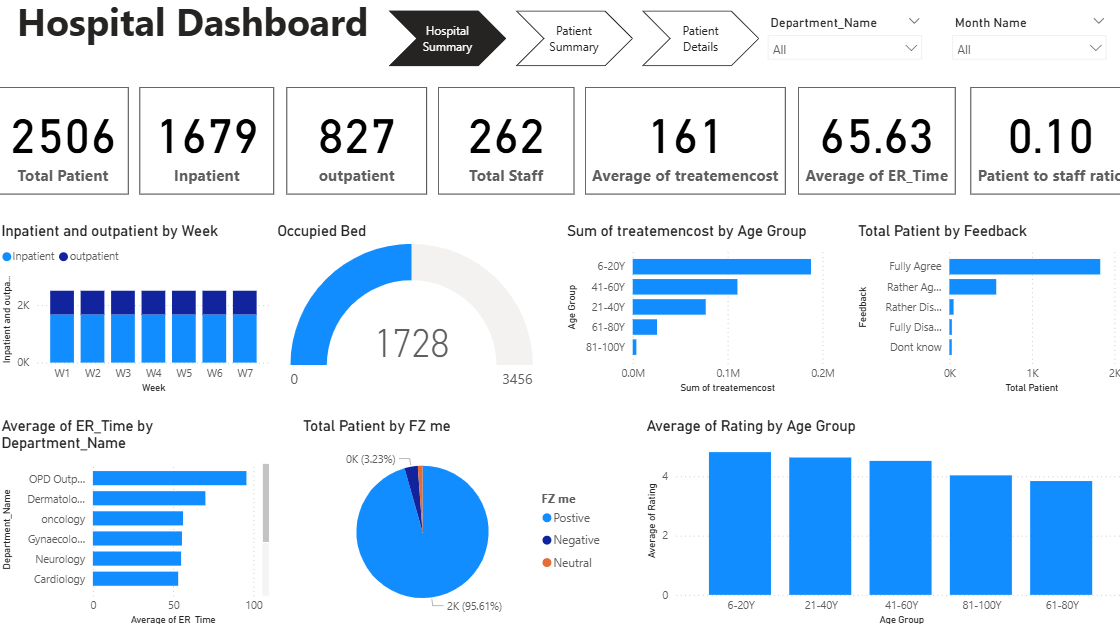

The page's visual inventory and layout, read from the dashboard file:
{"tool":"powerbi","page":{"name":"Hospital Summary","canvas":[1280,720],"ordinal":0},"visuals":[{"type":"card","fields":{"Values":["Measure.Total Patient"]},"box":[0,108.5,149,121.4],"z":0},{"type":"card","fields":{"Values":["Measure.Inpatient"]},"box":[160.3,108.5,152.2,121.4],"z":1000},{"type":"card","fields":{"Values":["Measure.outpatient"]},"box":[327.1,108.5,158.7,121.4],"z":2000},{"type":"card","fields":{"Values":["Measure.Total Staff"]},"box":[498.7,108.5,153.8,121.4],"z":3000},{"type":"card","fields":{"Values":["Avg(Detail data dataset.treatemencost)"]},"box":[663.9,108.5,226.7,121.4],"z":4000},{"type":"card","fields":{"Values":["Avg(Detail data dataset.ER_Time)"]},"box":[905.1,108.5,178.1,121.4],"z":5000},{"type":"card","fields":{"Values":["Measure.Patient to staff ratio"]},"box":[1099.5,108.5,181.4,121.4],"z":6000},{"type":"slicer","fields":{"Values":["Department.Department_Name"]},"box":[861.4,22.7,194.3,63.1],"z":7000},{"type":"slicer","fields":{"Values":["Date.Month Name"]},"box":[1070.3,22.7,194.3,63.1],"z":8000},{"type":"textbox","box":[0,0,442,68],"z":9000},{"type":"pageNavigator","box":[442,22.7,419.4,63.1],"z":10000},{"type":"columnChart","fields":{"Y":["Measure.Inpatient","Measure.outpatient"],"Category":["Date.Week"]},"box":[0,260.7,312.5,197.5],"z":11000},{"type":"gauge","fields":{"Y":["Measure.Occupied Bed"]},"box":[312.5,260.7,312.5,197.5],"z":12000},{"type":"barChart","fields":{"Y":["Sum(Detail data dataset.treatemencost)"],"Category":["Detail data dataset.Age Group"]},"box":[639.6,260.7,312.5,197.5],"z":13000},{"type":"barChart","fields":{"Category":["Detail data dataset.Feedback"],"Y":["Measure.Total Patient"]},"box":[968.3,260.7,312.5,197.5],"z":14000},{"type":"barChart","fields":{"Y":["Avg(Detail data dataset.ER_Time)"],"Category":["Department.Department_Name"]},"box":[0,480.9,312.5,239.6],"z":15000},{"type":"pieChart","fields":{"Y":["Measure.Total Patient"],"Category":["Detail data dataset.FZ me"]},"box":[340,480.9,354.6,239.6],"z":16000},{"type":"columnChart","fields":{"Y":["Avg(Detail data dataset.Rating)"],"Category":["Detail data dataset.Age Group"]},"box":[728.7,480.9,552.2,239.6],"z":17000}]}

Visuals, with their boxes in screenshot pixels (x1, y1, x2, y2), scaled from the page's 1280x720 canvas onto the 1120x624 screenshot:
card - Measure.Total Patient: BBox(0, 94, 130, 199)
card - Measure.Inpatient: BBox(140, 94, 273, 199)
card - Measure.outpatient: BBox(286, 94, 425, 199)
card - Measure.Total Staff: BBox(436, 94, 571, 199)
card - Avg(Detail data dataset.treatemencost): BBox(581, 94, 779, 199)
card - Avg(Detail data dataset.ER_Time): BBox(792, 94, 948, 199)
card - Measure.Patient to staff ratio: BBox(962, 94, 1119, 199)
slicer - Department.Department_Name: BBox(754, 20, 924, 74)
slicer - Date.Month Name: BBox(937, 20, 1107, 74)
textbox: BBox(0, 0, 387, 59)
pageNavigator: BBox(387, 20, 754, 74)
columnChart - Measure.Inpatient x Measure.outpatient: BBox(0, 226, 273, 397)
gauge - Measure.Occupied Bed: BBox(273, 226, 547, 397)
barChart - Sum(Detail data dataset.treatemencost) x Detail data dataset.Age Group: BBox(560, 226, 833, 397)
barChart - Detail data dataset.Feedback x Measure.Total Patient: BBox(847, 226, 1119, 397)
barChart - Avg(Detail data dataset.ER_Time) x Department.Department_Name: BBox(0, 417, 273, 623)
pieChart - Measure.Total Patient x Detail data dataset.FZ me: BBox(298, 417, 608, 623)
columnChart - Avg(Detail data dataset.Rating) x Detail data dataset.Age Group: BBox(638, 417, 1119, 623)
